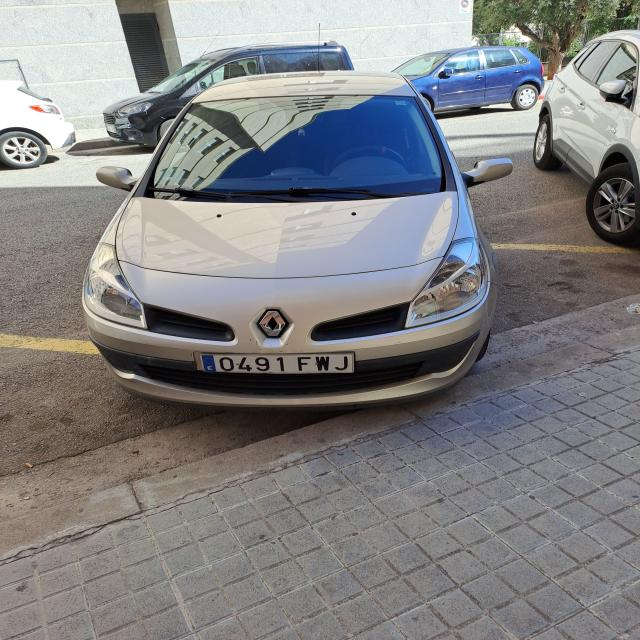license_plate-34Td: (198, 352, 354, 374)
